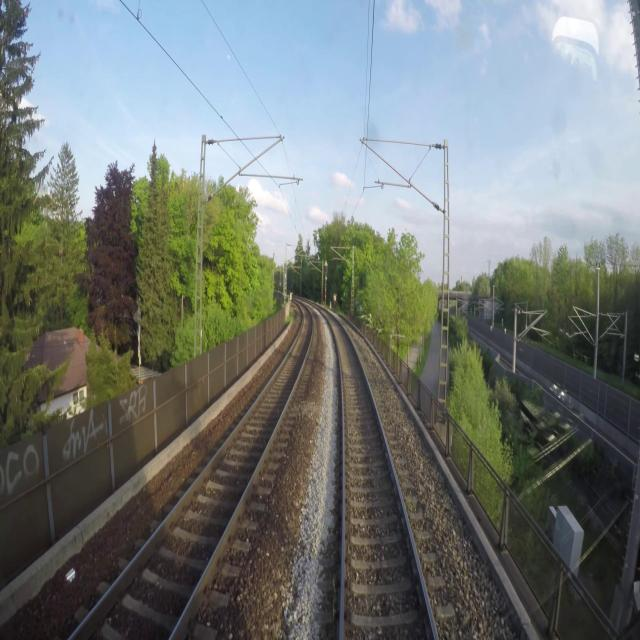rail-track: (74, 305, 311, 639), (324, 311, 433, 639)
